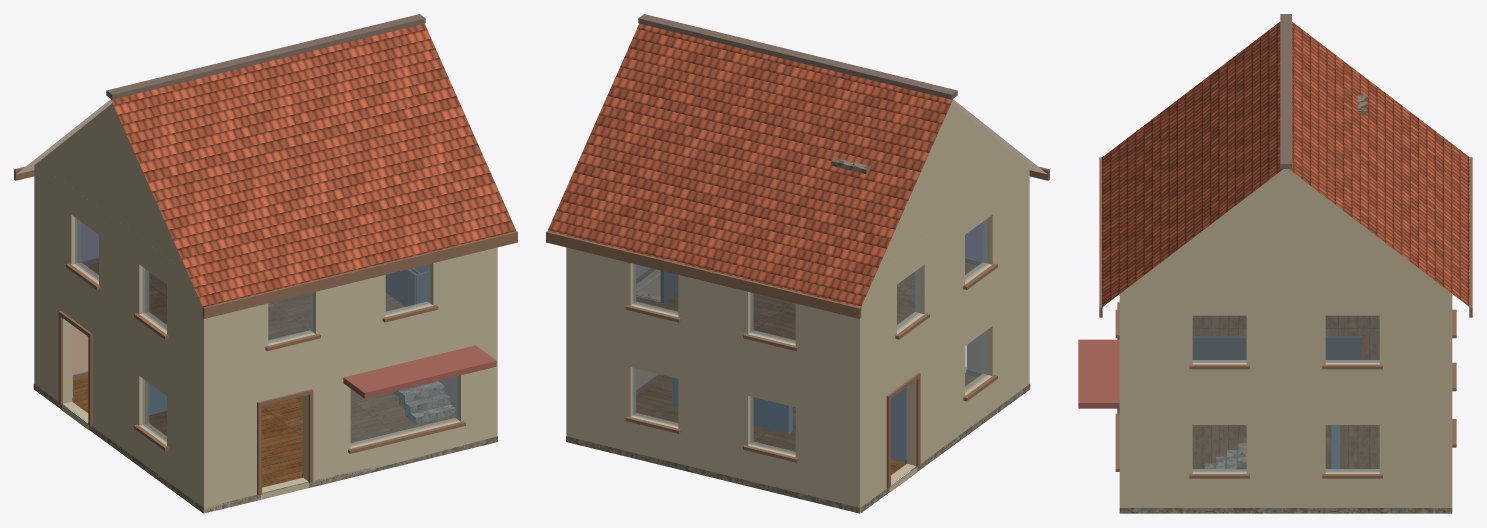
File: bakery.zfix-v5.lod0.glb
The picture shows the model from 3 angles, left to right: view 1: azimuth 30°, elevation 25°; view 2: azimuth 150°, elevation 25°; view 3: azimuth 270°, elevation 25°; orthographic projection.
Visible parts, largest first — view 1: bakery; view 2: bakery; view 3: bakery.
Part boxes in pixels (<box>): bakery: <box>14,14,517,513</box>; bakery: <box>546,14,1049,513</box>; bakery: <box>1078,14,1472,513</box>.
Bounding box in the file's own units: 8.54 × 9.41 × 9.49.
Materials: 5 (3 with a texture image).
